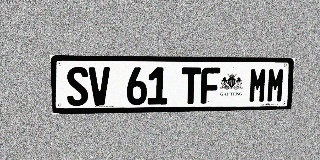1: (148, 67, 168, 105)
6: (127, 67, 147, 105)
F: (201, 67, 220, 104)
M: (248, 68, 268, 103), (266, 68, 285, 103)
S: (66, 67, 89, 106)
T: (181, 67, 201, 104)
V: (89, 67, 110, 106)
